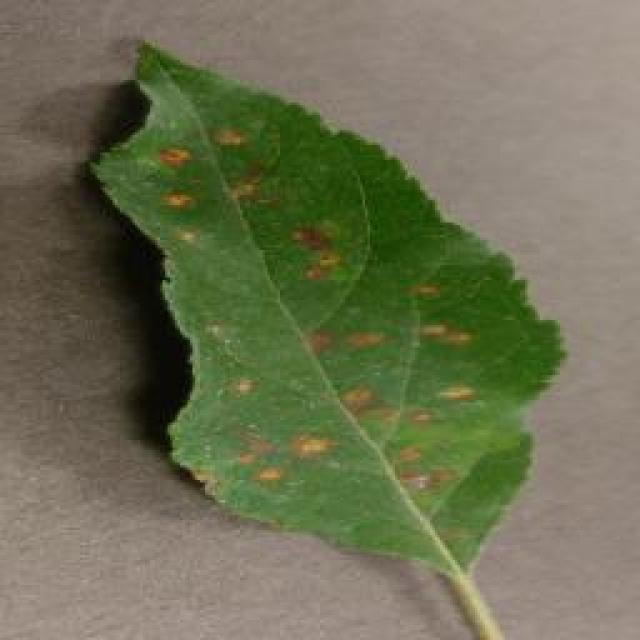App_Cedar_apple_rust: (309, 301, 496, 521), (156, 112, 275, 222), (225, 418, 301, 502), (286, 204, 360, 285)
